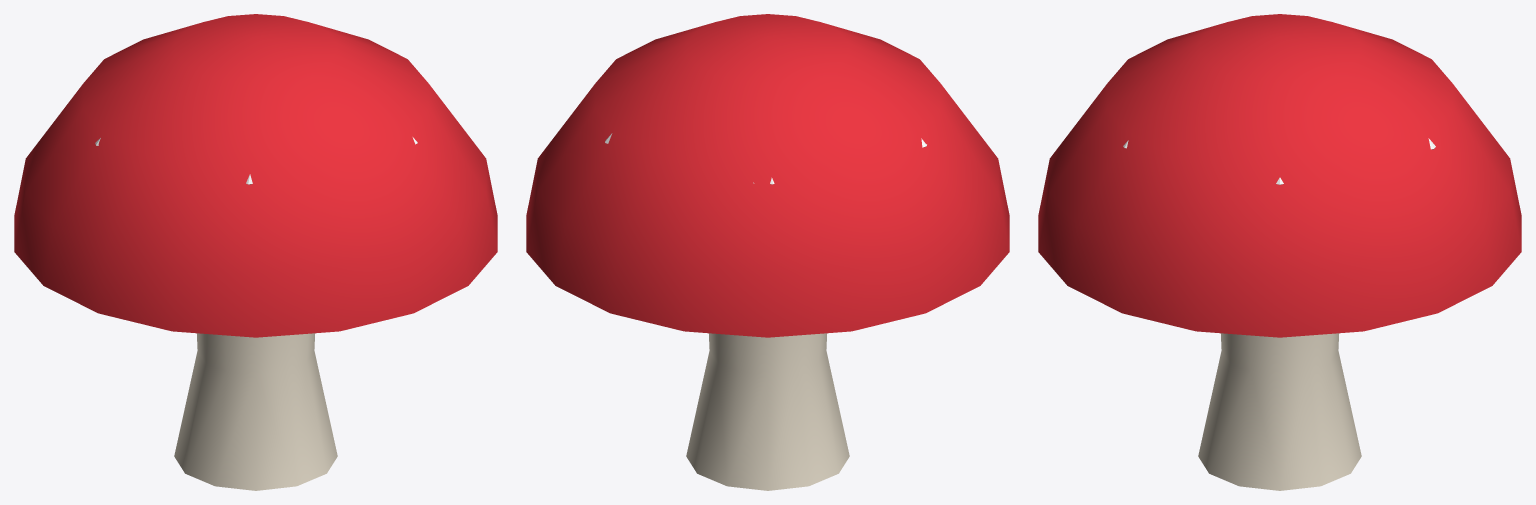
File: Mushroom.fbx
3 views of the same model, side by side, from view 1: azimuth 30°, elevation 25°; view 2: azimuth 150°, elevation 25°; view 3: azimuth 270°, elevation 25° (orthographic).
Visible parts, largest first — view 1: Mushroom; view 2: Mushroom; view 3: Mushroom.
Boxes of the visible parts, box(x1,y1,x2,y2) form: Mushroom: box(14, 14, 497, 490); Mushroom: box(526, 14, 1009, 490); Mushroom: box(1038, 14, 1521, 490).
Size of the model in its own units: 840 by 790 by 827.
